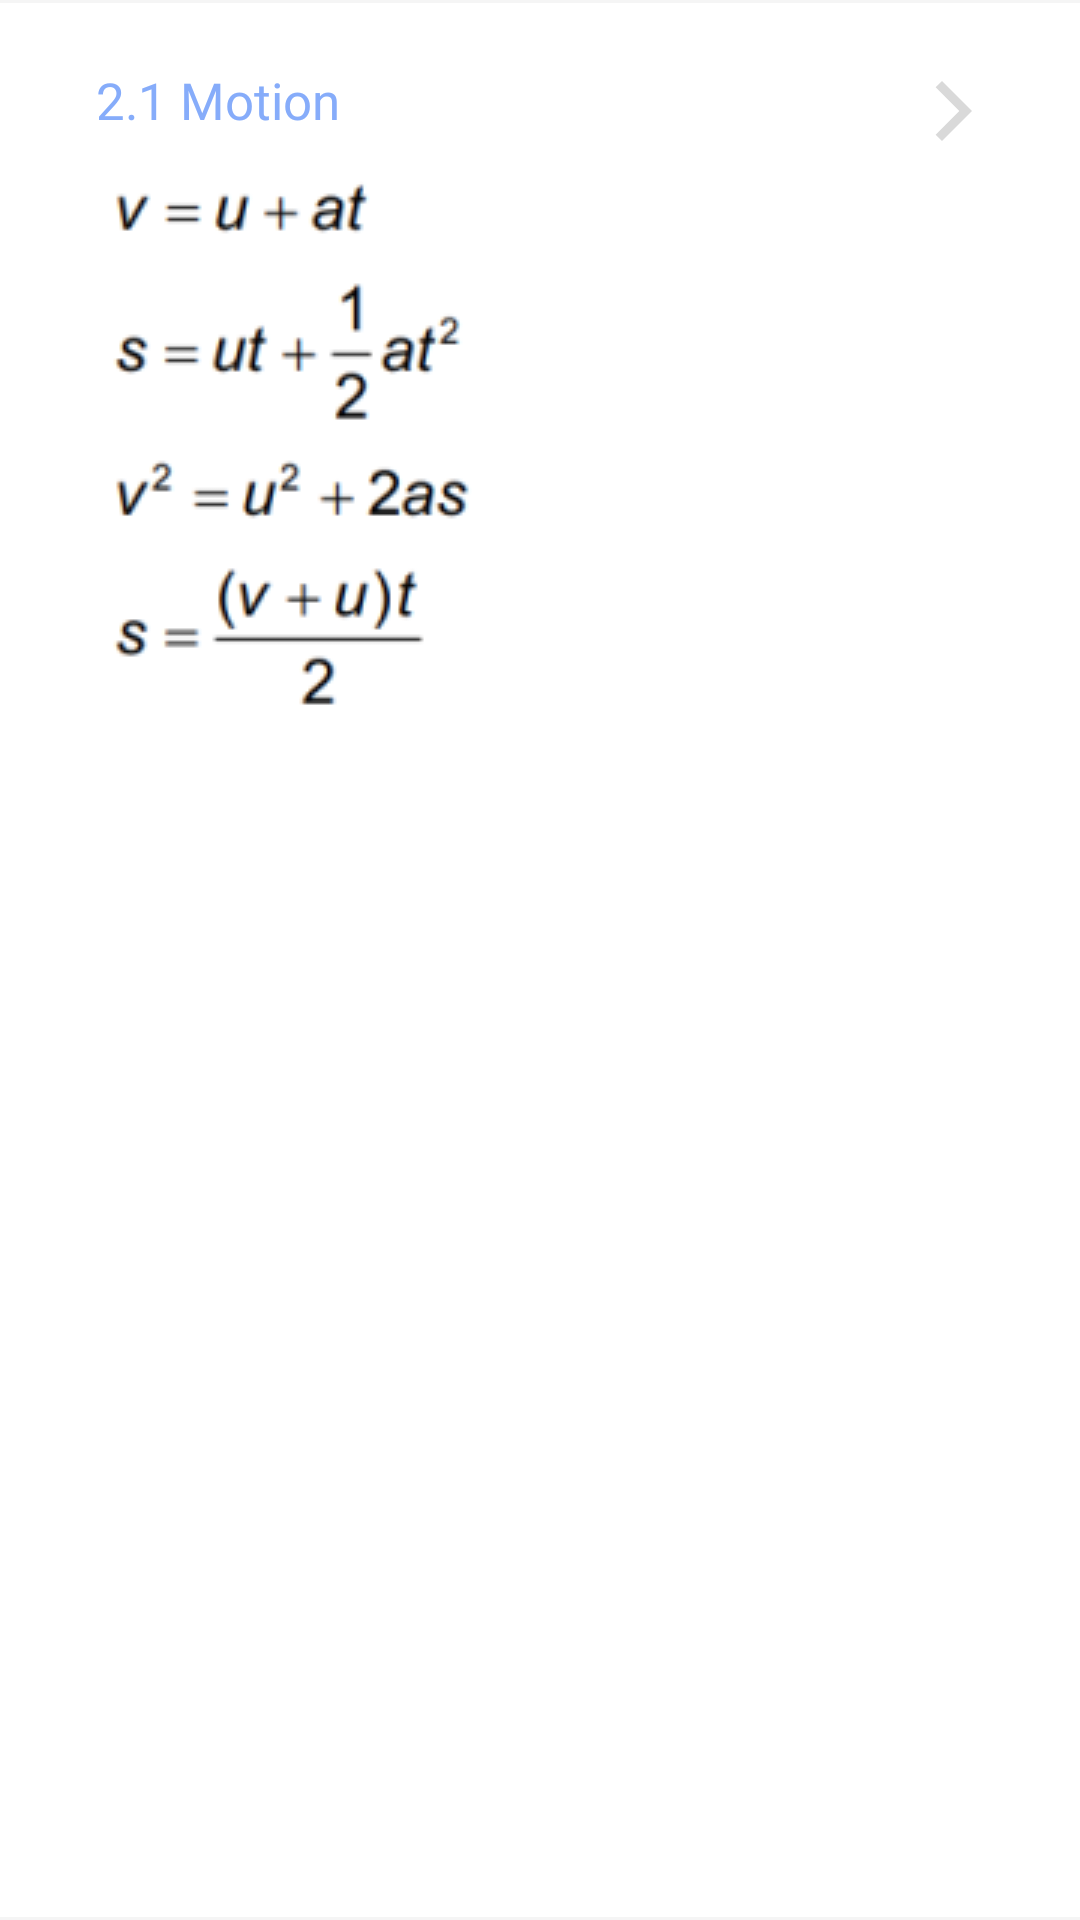

Where icons sit on this 1080 × 1920 app screen, as box(x1, y1, x2, y2):
viewmore: box(936, 82, 971, 140)
